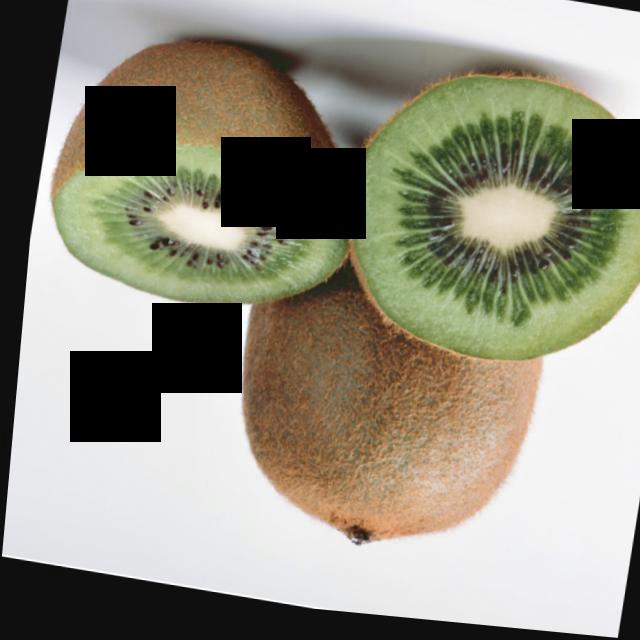kiwi: (220, 298, 556, 582)
